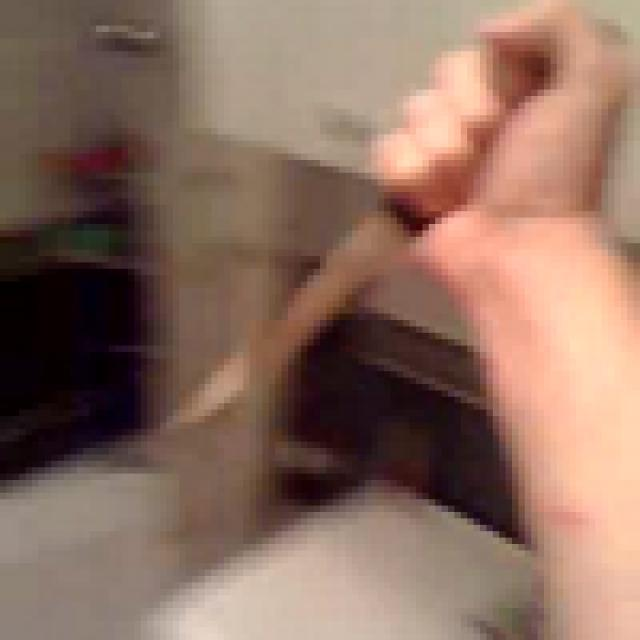knife: (147, 19, 563, 461)
